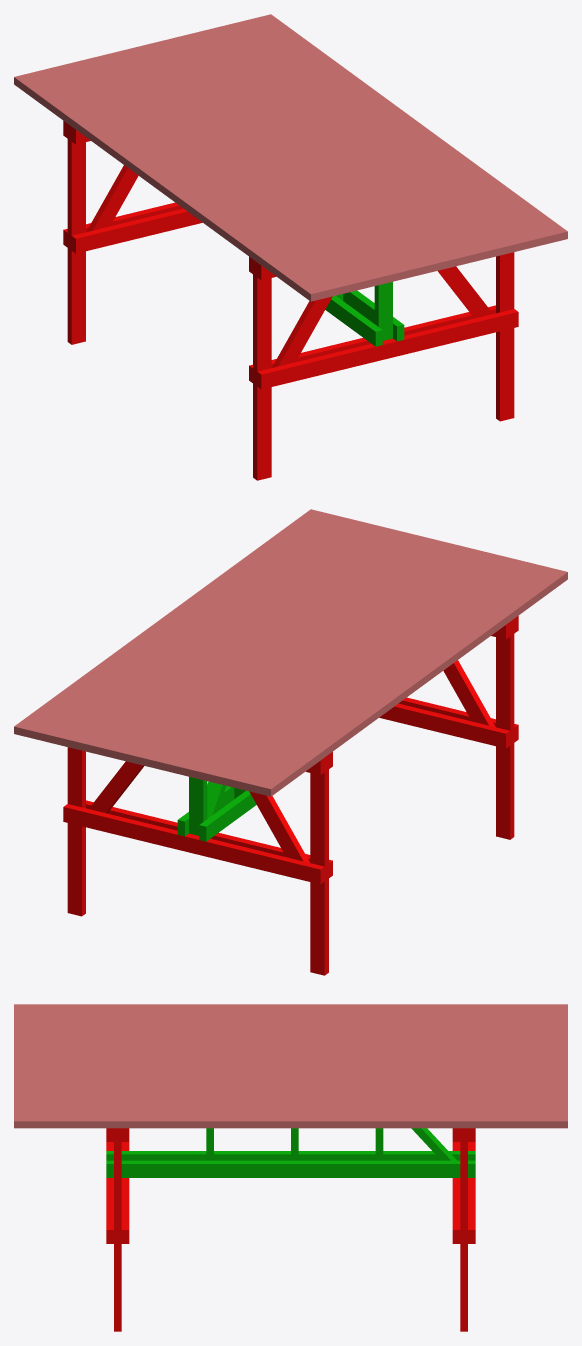
The model's file is result.glb.
The picture shows the model from 3 angles, top to bottom: view 1: azimuth 30°, elevation 25°; view 2: azimuth 150°, elevation 25°; view 3: azimuth 270°, elevation 25°; orthographic projection. The views are drawn at different scales.
Visible parts, largest first — view 1: aab077d4-8bef-42e6-9816-865d90e6d5ad__Box, b96b3a8d-864b-4e09-b5b1-2f95bcc92f1c__sideH, b97af98c-a9f3-4585-8076-c4af594b9e9f__undefined, 0556d560-8871-459e-8728-cd1e28186b7e__undefined, 6e7ec86b-0238-412b-88fb-27333ff2cd7f__undefined, da58290d-10f8-4d9e-ade1-b8104ce4d27e__undefined, 5d2f0ad6-5dff-4fc2-8d70-40b845699b2e__undefined, 1329ad67-89a0-4d81-b247-70650f8bbe73__undefined, 3985fcaa-a6ae-445d-b96f-687585c60f56__undefined, a33655b5-3414-4856-a9c2-1acb10c5aa16__undefined, 9ed699d7-6277-467d-b6b7-da4003ddb848__undefined, 9d793982-eb60-4dbe-b80d-f8543d7fe7c4__undefined (+19 smaller); view 2: aab077d4-8bef-42e6-9816-865d90e6d5ad__Box, a8e449e0-c2c3-4b6a-99cc-16739d0ef321__undefined, b97af98c-a9f3-4585-8076-c4af594b9e9f__undefined, 0556d560-8871-459e-8728-cd1e28186b7e__undefined, 6e7ec86b-0238-412b-88fb-27333ff2cd7f__undefined, da58290d-10f8-4d9e-ade1-b8104ce4d27e__undefined, 5d2f0ad6-5dff-4fc2-8d70-40b845699b2e__undefined, 1329ad67-89a0-4d81-b247-70650f8bbe73__undefined, 3985fcaa-a6ae-445d-b96f-687585c60f56__undefined, a33655b5-3414-4856-a9c2-1acb10c5aa16__undefined, 9ed699d7-6277-467d-b6b7-da4003ddb848__undefined, 9d793982-eb60-4dbe-b80d-f8543d7fe7c4__undefined (+18 smaller); view 3: b4cef787-2398-421d-aece-e8d18cdc0fe1__undefined, 45a0cf74-17c9-44c9-8e01-b1bb30d13d32__strutH, 0556d560-8871-459e-8728-cd1e28186b7e__undefined, 78c67b63-e7f2-4d21-aa00-ab813fef3938__undefined, da58290d-10f8-4d9e-ade1-b8104ce4d27e__undefined, f75bf13a-ee30-471d-9745-bdeb87f623ea__undefined, 5d2f0ad6-5dff-4fc2-8d70-40b845699b2e__undefined, 9d793982-eb60-4dbe-b80d-f8543d7fe7c4__undefined, 3985fcaa-a6ae-445d-b96f-687585c60f56__undefined, a33655b5-3414-4856-a9c2-1acb10c5aa16__undefined, aab077d4-8bef-42e6-9816-865d90e6d5ad__Box, 6e7ec86b-0238-412b-88fb-27333ff2cd7f__undefined (+15 smaller).
Part boxes in pixels (left/top/right/bottom): aab077d4-8bef-42e6-9816-865d90e6d5ad__Box: left=14, top=73, right=325, bottom=301; b96b3a8d-864b-4e09-b5b1-2f95bcc92f1c__sideH: left=257, top=309, right=518, bottom=389; b97af98c-a9f3-4585-8076-c4af594b9e9f__undefined: left=71, top=59, right=382, bottom=287; 0556d560-8871-459e-8728-cd1e28186b7e__undefined: left=28, top=70, right=339, bottom=297; 6e7ec86b-0238-412b-88fb-27333ff2cd7f__undefined: left=43, top=66, right=353, bottom=294; da58290d-10f8-4d9e-ade1-b8104ce4d27e__undefined: left=85, top=56, right=396, bottom=284; 5d2f0ad6-5dff-4fc2-8d70-40b845699b2e__undefined: left=143, top=42, right=453, bottom=270; 1329ad67-89a0-4d81-b247-70650f8bbe73__undefined: left=157, top=38, right=467, bottom=266; 3985fcaa-a6ae-445d-b96f-687585c60f56__undefined: left=200, top=28, right=510, bottom=256; a33655b5-3414-4856-a9c2-1acb10c5aa16__undefined: left=228, top=21, right=539, bottom=249; 9ed699d7-6277-467d-b6b7-da4003ddb848__undefined: left=128, top=45, right=439, bottom=273; 9d793982-eb60-4dbe-b80d-f8543d7fe7c4__undefined: left=171, top=35, right=482, bottom=263; aab077d4-8bef-42e6-9816-865d90e6d5ad__Box: left=256, top=568, right=567, bottom=796; a8e449e0-c2c3-4b6a-99cc-16739d0ef321__undefined: left=63, top=804, right=324, bottom=884; b97af98c-a9f3-4585-8076-c4af594b9e9f__undefined: left=199, top=554, right=510, bottom=782; 0556d560-8871-459e-8728-cd1e28186b7e__undefined: left=242, top=565, right=553, bottom=792; 6e7ec86b-0238-412b-88fb-27333ff2cd7f__undefined: left=228, top=561, right=538, bottom=789; da58290d-10f8-4d9e-ade1-b8104ce4d27e__undefined: left=185, top=551, right=496, bottom=779; 5d2f0ad6-5dff-4fc2-8d70-40b845699b2e__undefined: left=128, top=537, right=438, bottom=765; 1329ad67-89a0-4d81-b247-70650f8bbe73__undefined: left=114, top=533, right=424, bottom=761; 3985fcaa-a6ae-445d-b96f-687585c60f56__undefined: left=71, top=523, right=381, bottom=751; a33655b5-3414-4856-a9c2-1acb10c5aa16__undefined: left=42, top=516, right=353, bottom=744; 9ed699d7-6277-467d-b6b7-da4003ddb848__undefined: left=142, top=540, right=453, bottom=768; 9d793982-eb60-4dbe-b80d-f8543d7fe7c4__undefined: left=99, top=530, right=410, bottom=758; b4cef787-2398-421d-aece-e8d18cdc0fe1__undefined: left=14, top=1114, right=567, bottom=1128; 45a0cf74-17c9-44c9-8e01-b1bb30d13d32__strutH: left=106, top=1160, right=475, bottom=1177; 0556d560-8871-459e-8728-cd1e28186b7e__undefined: left=14, top=1010, right=567, bottom=1017; 78c67b63-e7f2-4d21-aa00-ab813fef3938__undefined: left=14, top=1023, right=567, bottom=1030; da58290d-10f8-4d9e-ade1-b8104ce4d27e__undefined: left=14, top=1036, right=567, bottom=1043; f75bf13a-ee30-471d-9745-bdeb87f623ea__undefined: left=14, top=1049, right=567, bottom=1056; 5d2f0ad6-5dff-4fc2-8d70-40b845699b2e__undefined: left=14, top=1062, right=567, bottom=1069; 9d793982-eb60-4dbe-b80d-f8543d7fe7c4__undefined: left=14, top=1075, right=567, bottom=1082; 3985fcaa-a6ae-445d-b96f-687585c60f56__undefined: left=14, top=1088, right=567, bottom=1095; a33655b5-3414-4856-a9c2-1acb10c5aa16__undefined: left=14, top=1101, right=567, bottom=1108; aab077d4-8bef-42e6-9816-865d90e6d5ad__Box: left=14, top=1004, right=567, bottom=1010; 6e7ec86b-0238-412b-88fb-27333ff2cd7f__undefined: left=14, top=1017, right=567, bottom=1023.
Bounding box in the file's own units: 900 × 755 × 1800.
